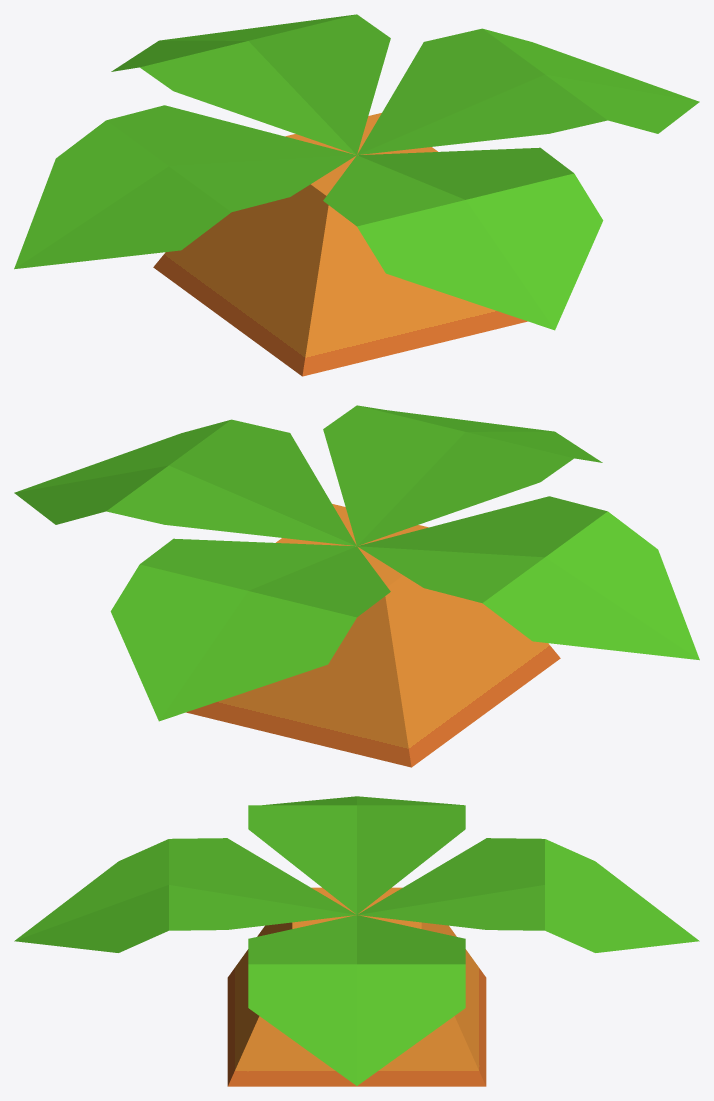
The model's file is Carrot_001-2.fbx.
3 views of the same model, one above another, from view 1: azimuth 30°, elevation 25°; view 2: azimuth 150°, elevation 25°; view 3: azimuth 270°, elevation 25° (orthographic). The views are drawn at different scales.
Parts seen in each view (by area): view 1: Carrot_001-2; view 2: Carrot_001-2; view 3: Carrot_001-2.
Part boxes in pixels (x1=…): Carrot_001-2: x1=14, y1=14, x2=699, y2=376; Carrot_001-2: x1=14, y1=405, x2=699, y2=767; Carrot_001-2: x1=14, y1=796, x2=699, y2=1086.
Bounding box in the file's own units: 33.18 × 7.9 × 33.18.
1 material, 1 textured.
